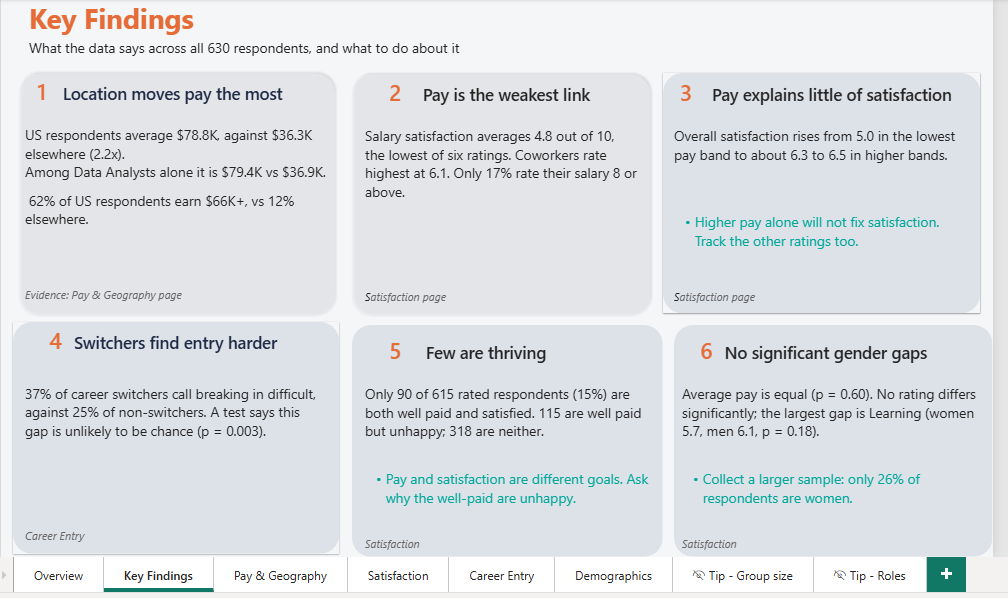

The dashboard page shown, as its layout file describes it:
{"tool":"powerbi","page":{"name":"Key Findings","canvas":[1920,1080],"ordinal":1},"visuals":[{"type":"shape","box":[1303.2,631.4,616.5,448.6],"z":0},{"type":"textbox","box":[53.7,0,507.9,90.8],"z":1000},{"type":"shape","box":[680.3,631.4,601.7,448.6],"z":2000},{"type":"textbox","box":[703.7,650.6,561.3,425.2],"z":3000},{"type":"textbox","box":[1318.1,650.6,578.3,425.2],"z":4000},{"type":"shape","box":[1282,142.7,614.4,465.3],"z":5000},{"type":"shape","box":[23.4,625,631.4,448.6],"z":6000},{"type":"shape","box":[669.7,138.2,595.3,486.9],"z":7000},{"type":"textbox","box":[1303.2,150.9,569.8,457.1],"z":8000},{"type":"textbox","box":[45.5,630.1,584.2,438],"z":9000},{"type":"textbox","box":[53.7,76.4,877.4,41.3],"z":10000},{"type":"textbox","box":[703.7,150.9,528,474.1],"z":11000},{"type":"shape","box":[25.5,136.1,629.3,489],"z":15000},{"type":"textbox","box":[46.8,148.8,582.5,459.2],"z":16000}]}

Visuals, with their boxes on the page's 1920x1080 design canvas (x1, y1, x2, y2). These are canvas units, not pixel positions in the 1008x598 screenshot, which may show the page scaled, cropped or inside an application window:
shape: select_region(1303, 631, 1920, 1080)
textbox: select_region(54, 0, 562, 91)
shape: select_region(680, 631, 1282, 1080)
textbox: select_region(704, 651, 1265, 1076)
textbox: select_region(1318, 651, 1896, 1076)
shape: select_region(1282, 143, 1896, 608)
shape: select_region(23, 625, 655, 1074)
shape: select_region(670, 138, 1265, 625)
textbox: select_region(1303, 151, 1873, 608)
textbox: select_region(46, 630, 630, 1068)
textbox: select_region(54, 76, 931, 118)
textbox: select_region(704, 151, 1232, 625)
shape: select_region(26, 136, 655, 625)
textbox: select_region(47, 149, 629, 608)
